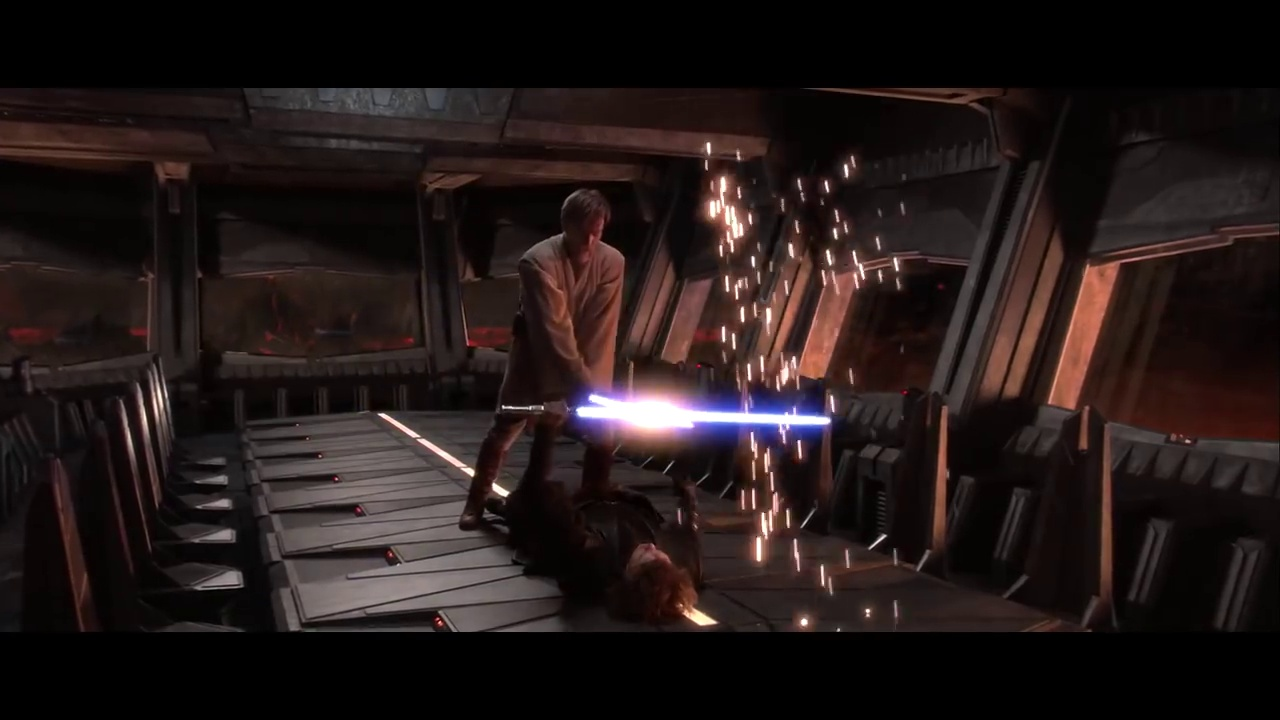lightsaber: (477, 364, 859, 445)
